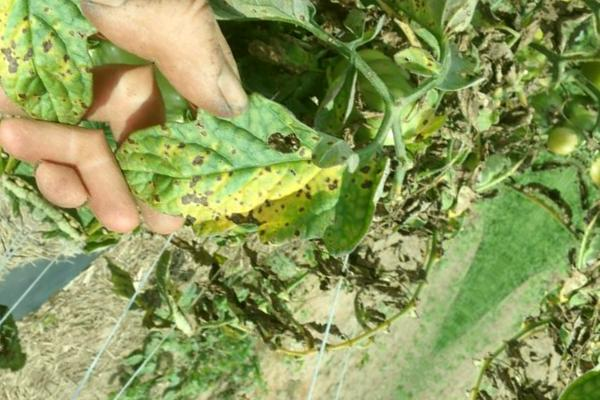Tomato Septoria leaf spot: (102, 29, 414, 327), (357, 0, 501, 68), (214, 0, 332, 57)
